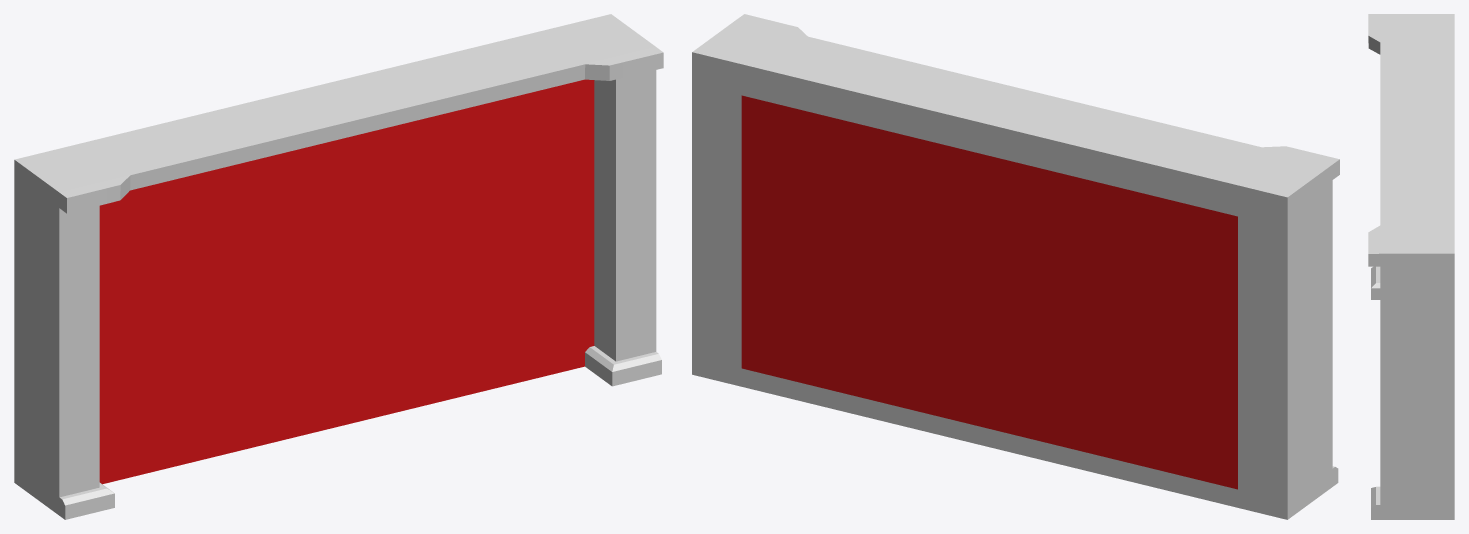
The model's file is Wall Hybrid.fbx.
3 renders of one model, left to right at view 1: azimuth 30°, elevation 25°; view 2: azimuth 150°, elevation 25°; view 3: azimuth 270°, elevation 25°, orthographic. The views are drawn at different scales.
Visible parts, largest first — view 1: Wall mixed; view 2: Wall mixed; view 3: Wall mixed.
Boxes of the visible parts, x1,y1,x2,y2 form: Wall mixed: (14, 14, 663, 519); Wall mixed: (692, 14, 1339, 519); Wall mixed: (1368, 14, 1454, 519).
Bounding box in the file's own units: 552 × 286 × 84.02.
